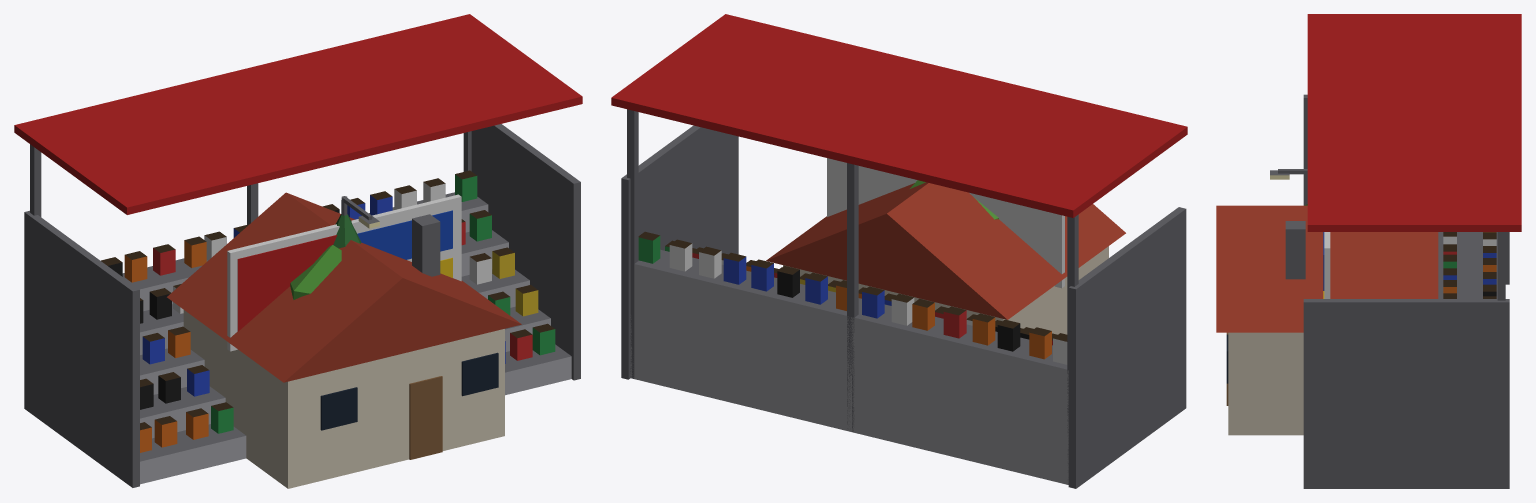
The model's file is props.glb.
The picture shows the model from 3 angles, left to right: view 1: azimuth 30°, elevation 25°; view 2: azimuth 150°, elevation 25°; view 3: azimuth 270°, elevation 25°; orthographic projection. The views are drawn at different scales.
Visible parts, largest first — view 1: grandstand, house, billboard, tree_broadleaf; view 2: grandstand, house, billboard; view 3: grandstand, house, billboard.
Boxes of the visible parts, <box> form: grandstand: <box>14,14,582,487</box>; house: <box>167,192,521,488</box>; billboard: <box>227,194,461,351</box>; tree_broadleaf: <box>290,245,341,299</box>; grandstand: <box>611,14,1187,488</box>; house: <box>766,182,1125,334</box>; billboard: <box>827,158,1064,288</box>; grandstand: <box>1303,14,1521,488</box>; house: <box>1216,205,1438,435</box>; billboard: <box>1323,232,1330,298</box>.
Bounding box in the file's own units: 12.6 × 7.64 × 7.7.
